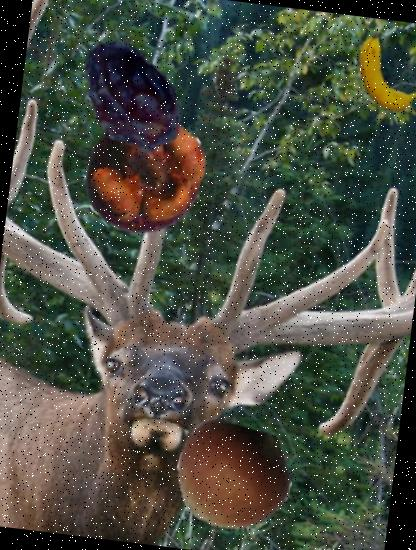Banana: (340, 26, 416, 120)
Dates: (61, 29, 200, 168)
Mangostan: (74, 104, 217, 247)
Nut: (169, 413, 298, 542)
